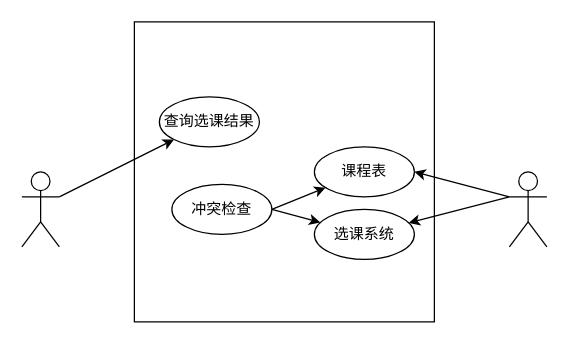
Some shapes in this 569 by 344 pixel diagram are drawn without their labels. The centre of each missing label's shape, as x and y in pixels:
学生: (527,209)
教师: (40,209)
